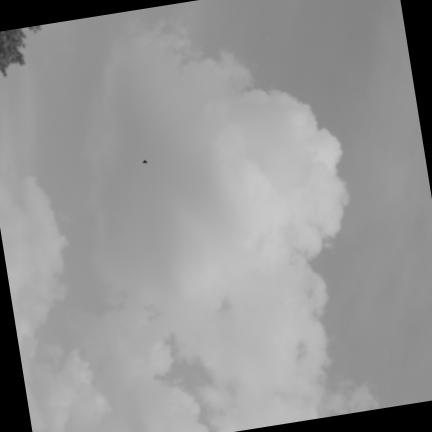Shahed: (142, 159, 147, 164)
